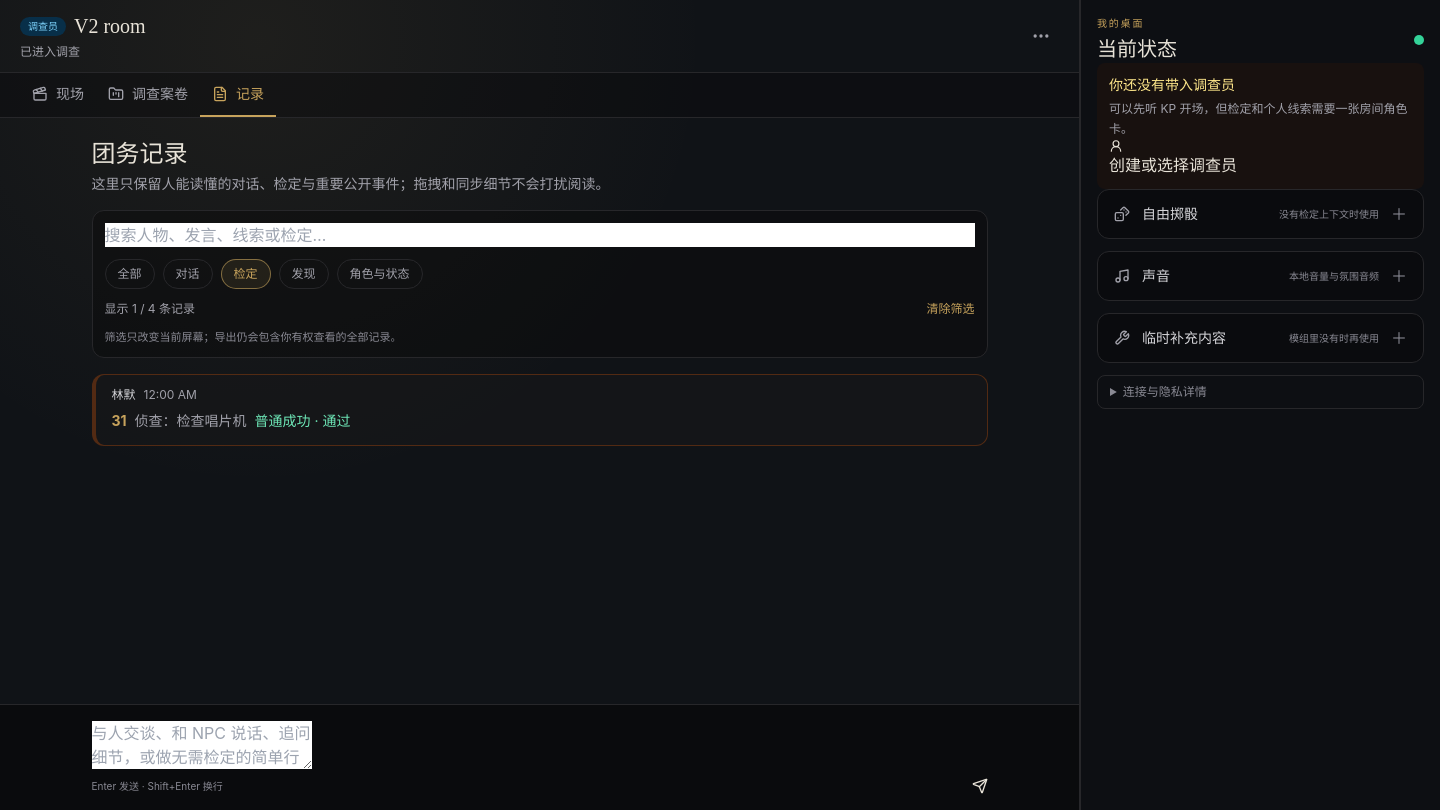
Test: RoomViewV2 board creation › filters and searches the readable record with a few table-friendly categories
The image size is (1440, 810).
Earlier steps of the test are not shown.
expect the text "侦查：检查唱片机" is shown: met, box [135,412,247,429]
expect the text "我听见门后有唱针声。" is not shown: met
Click the button "发现" at coordinates (304, 274), box [278,259,328,289]
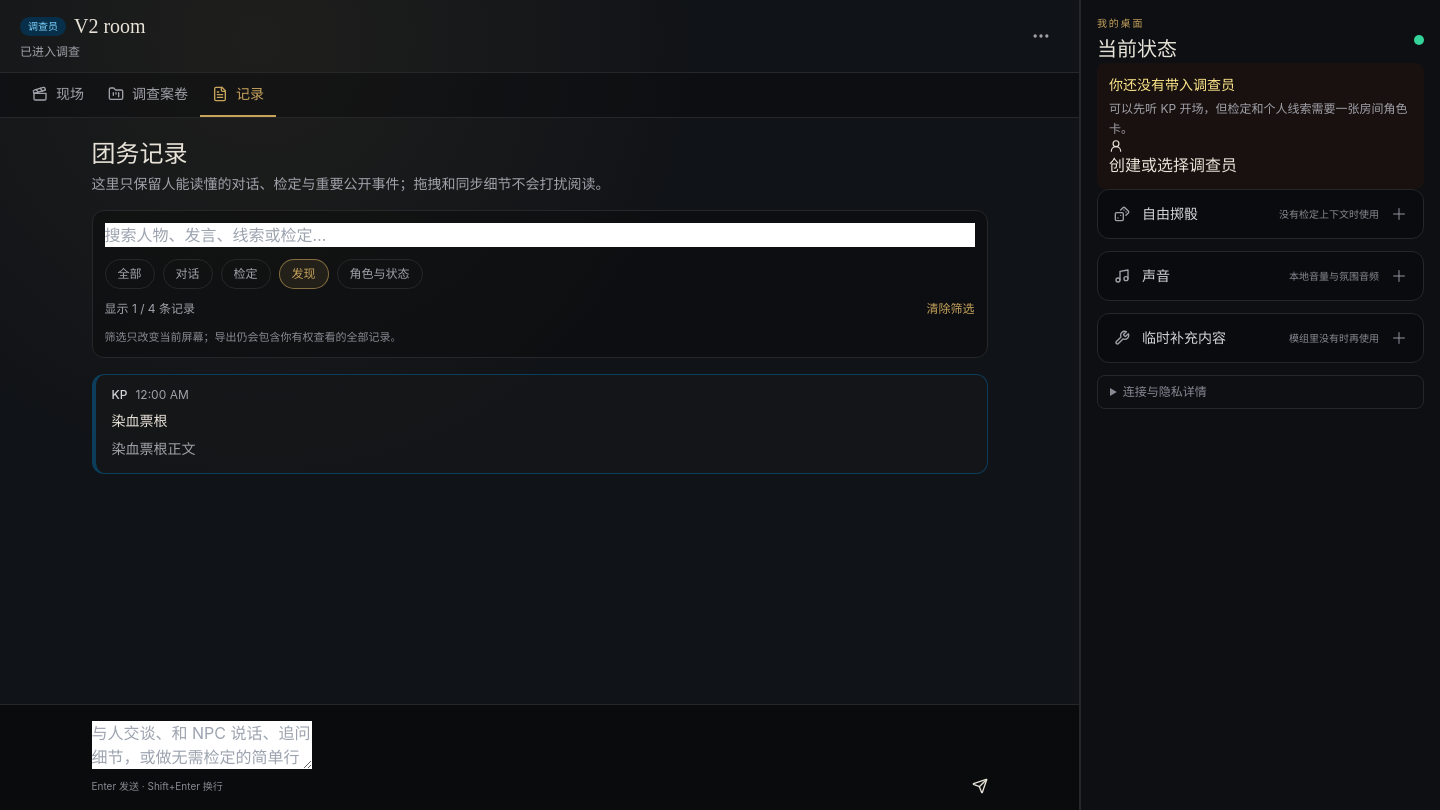
expect the text "染血票根" is shown: met, box [112,412,168,429]
Click the button "角色与状态" at coordinates (380, 274), box [337,259,423,289]
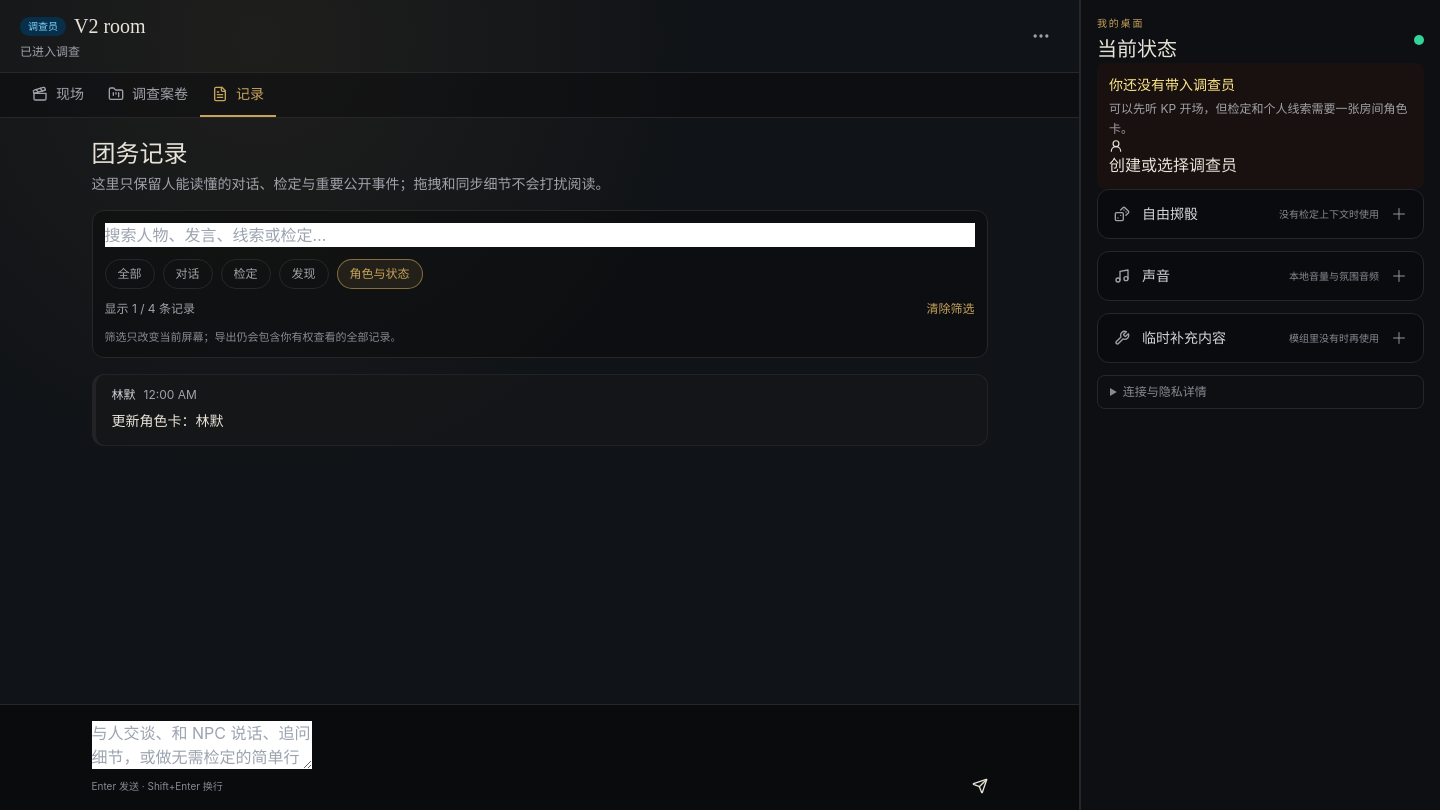
expect the text "更新角色卡：林默" is shown: met, box [112,412,224,429]
Click the button "全部" at coordinates (130, 274), box [104,259,154,289]
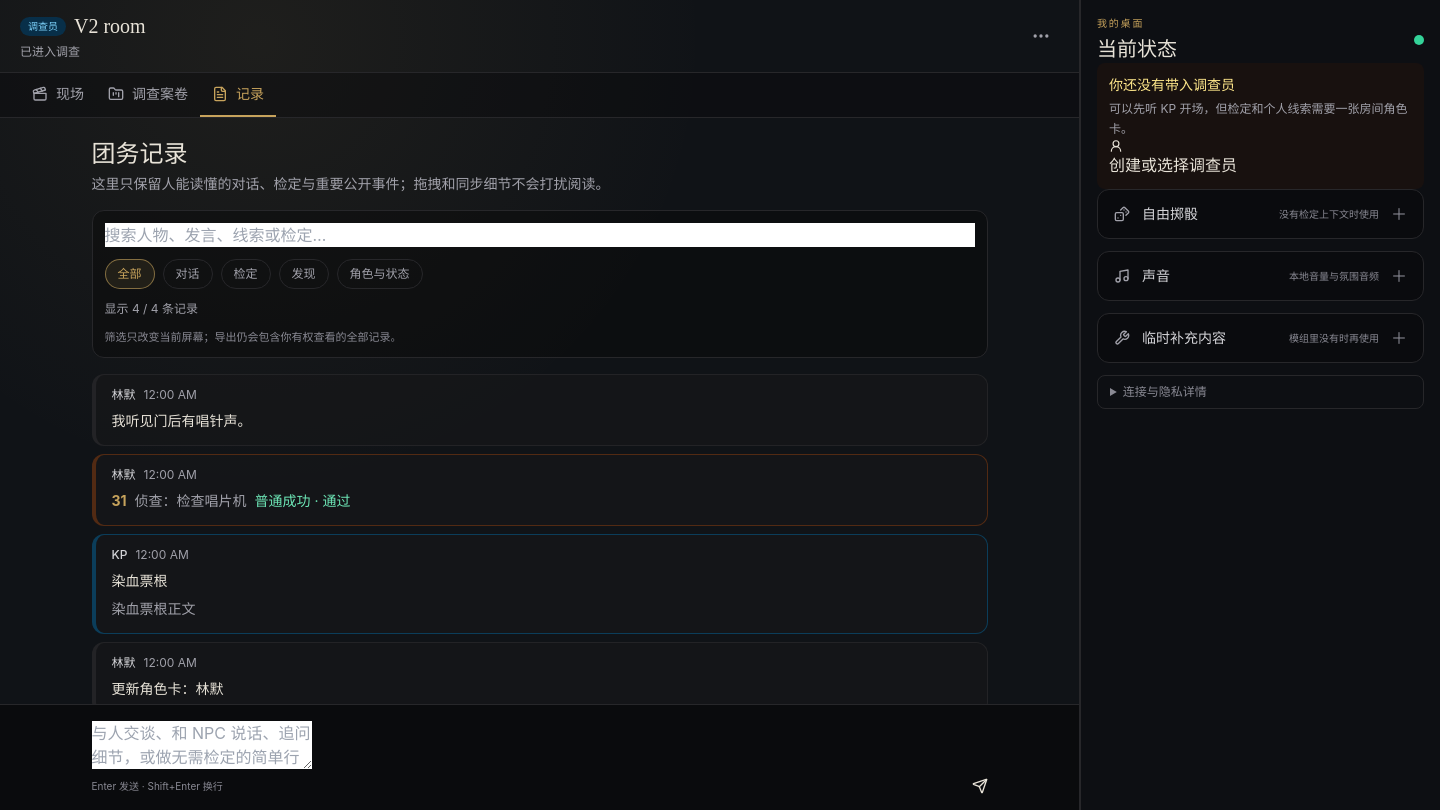
Type "林默 侦查" into the field named "搜索团务记录" at coordinates (540, 235), box [104,223,974,247]
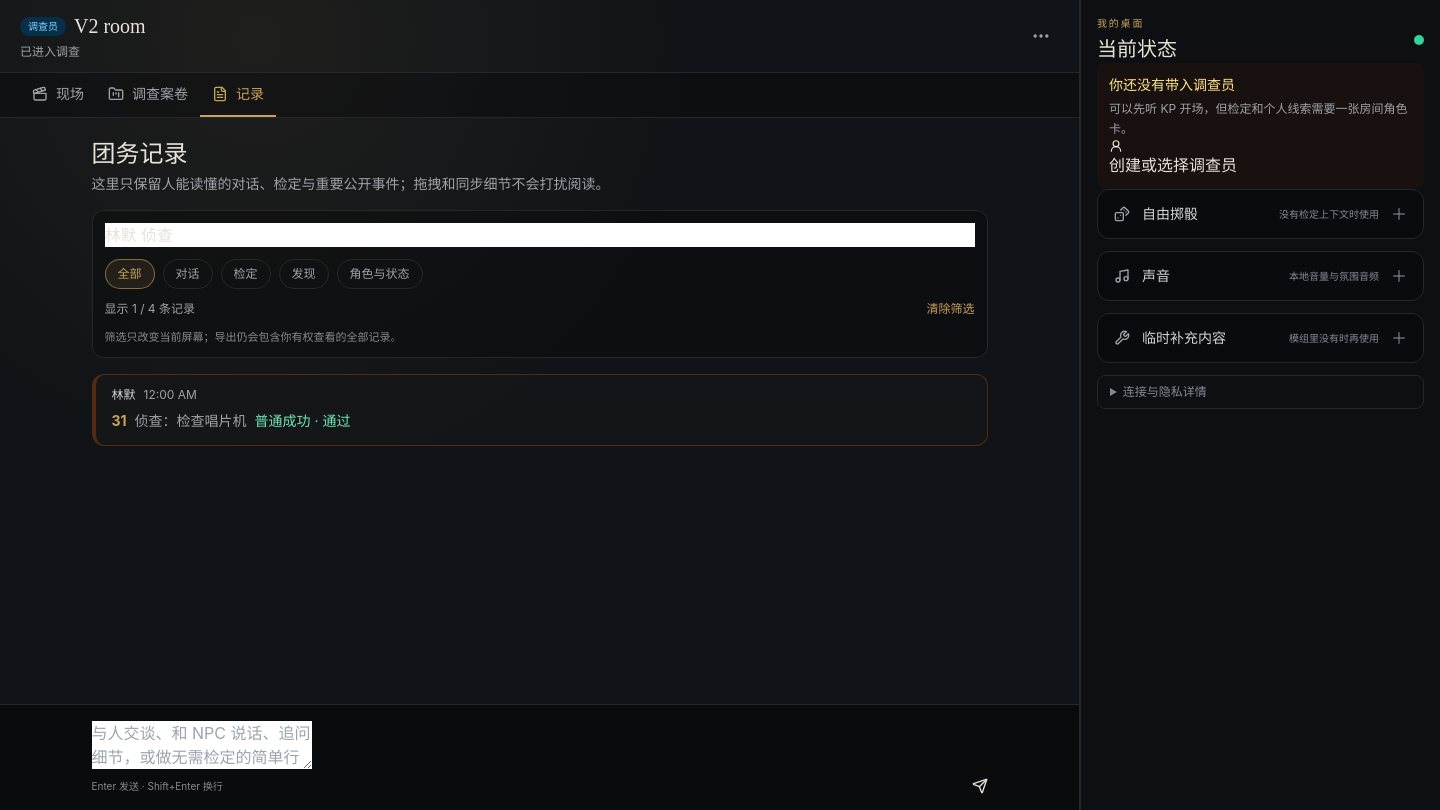
expect the text "侦查：检查唱片机" is shown: met, box [135,412,247,429]
expect the text "我听见门后有唱针声。" is gone: met
expect the text "显示 1 / 4 条记录" is shown: met, box [104,301,195,317]
Replace the text in the field named "搜索团务记录" with "染血票根" at coordinates (540, 235), box [104,223,974,247]
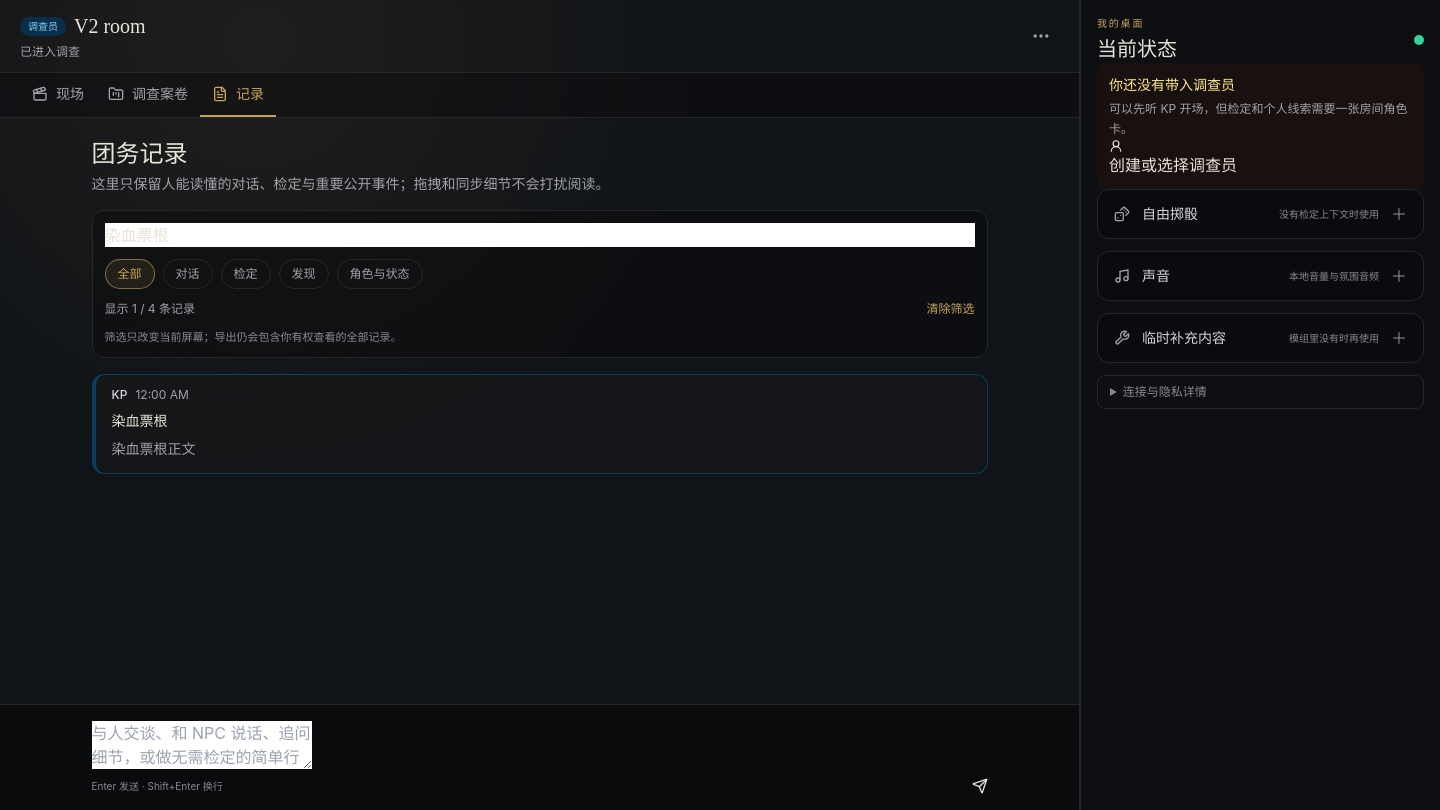
expect the text "染血票根" is shown: met, box [112,412,168,429]
Click the button "清除筛选" at coordinates (950, 309), box [926,301,974,317]
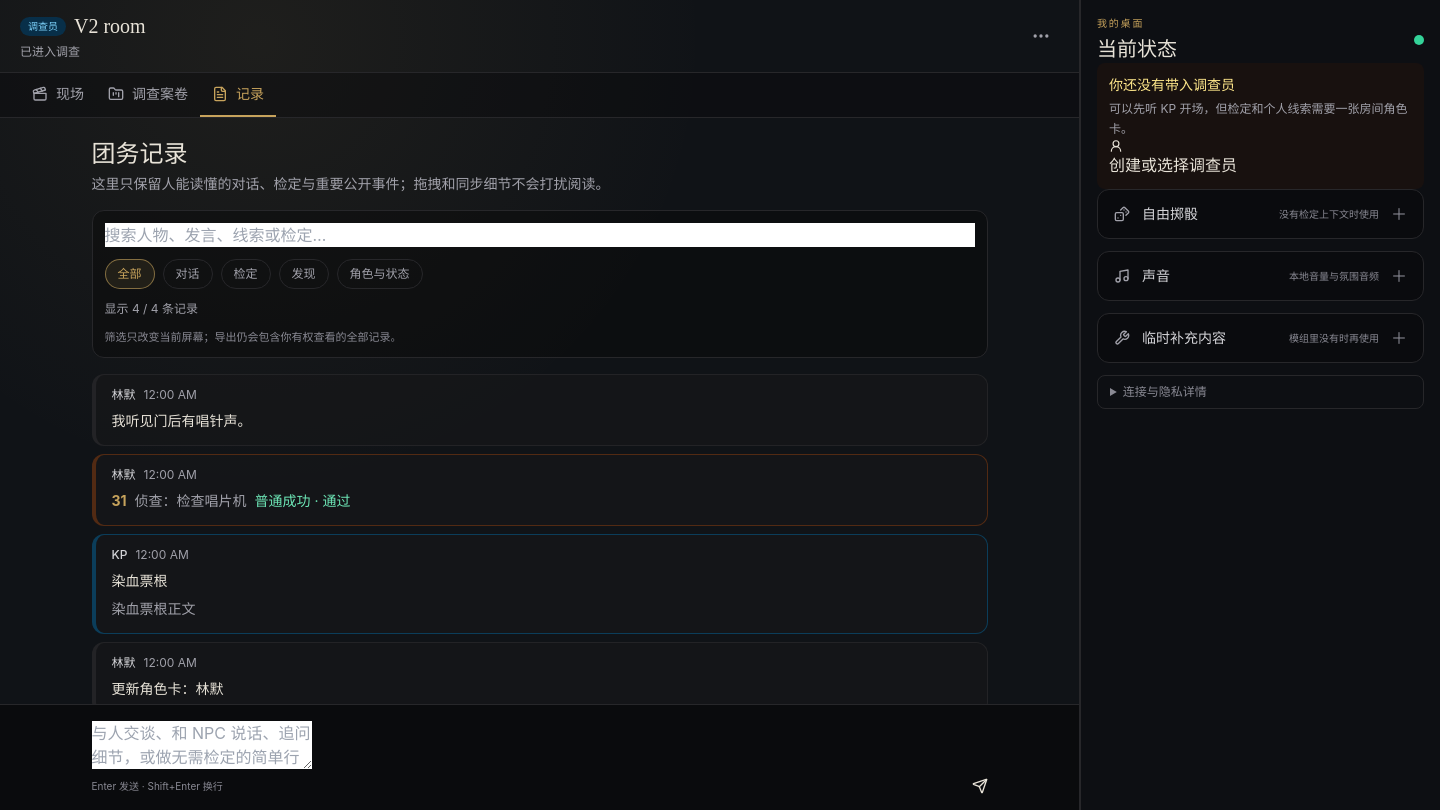
expect the field named "搜索团务记录" is empty: met, box [104,223,974,247]
expect the text "显示 4 / 4 条记录" is shown: met, box [104,301,198,317]
